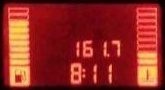-: (105, 52, 108, 57)
1: (91, 61, 98, 84), (107, 61, 113, 84), (74, 38, 80, 57), (101, 38, 106, 59)
6: (81, 38, 92, 57)
7: (111, 38, 121, 56)
8: (69, 60, 81, 84)
X: (81, 66, 85, 79)
